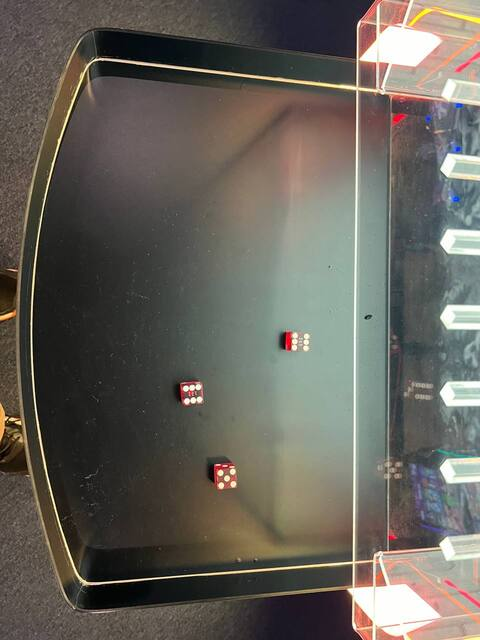five: (211, 464, 240, 493)
six: (176, 377, 207, 408), (287, 327, 314, 355)
